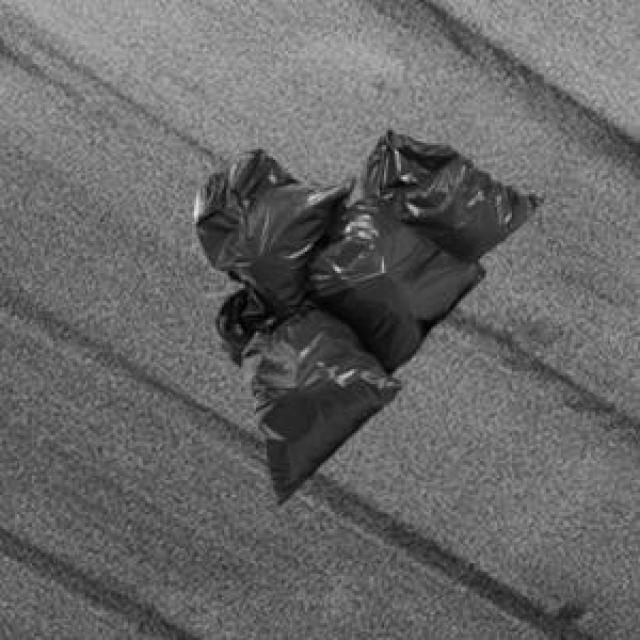miscellaneous trash: (190, 124, 542, 501)
